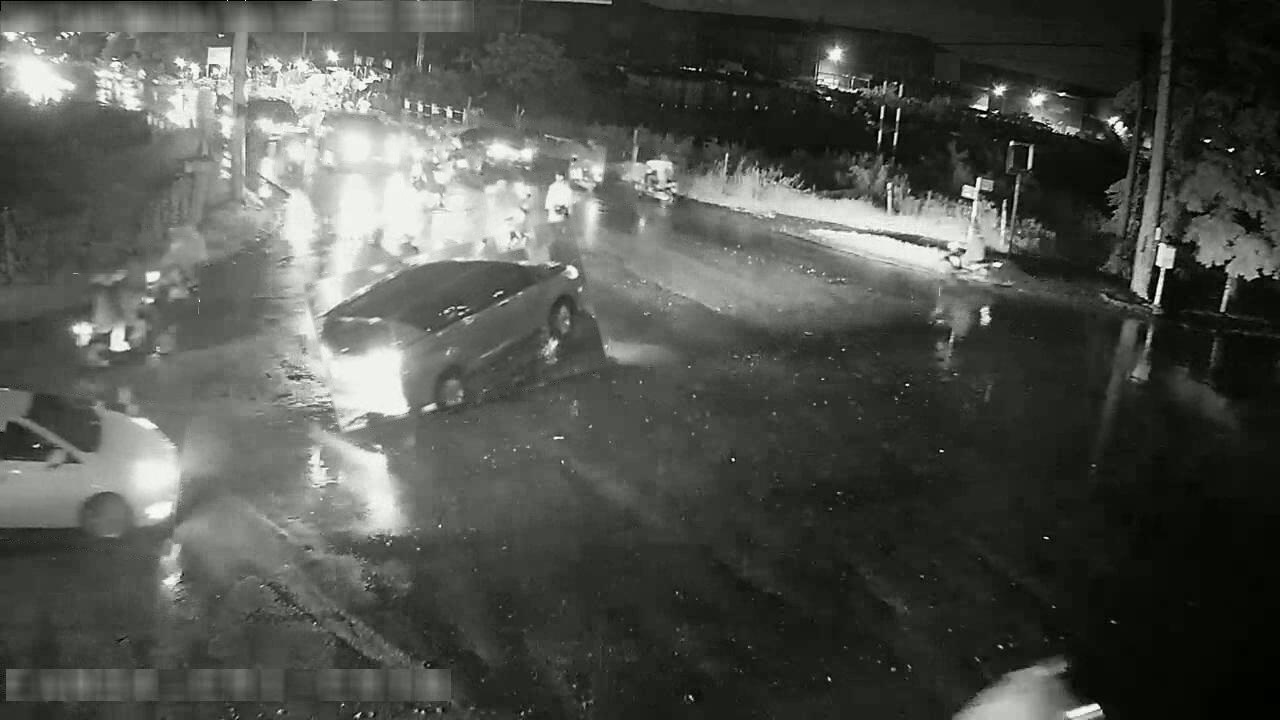Car: (308, 257, 594, 428), (0, 387, 180, 539), (320, 112, 404, 170), (478, 125, 536, 170)
Motorcyclist: (71, 272, 153, 367), (144, 227, 204, 307), (488, 179, 533, 252), (943, 229, 993, 289), (631, 153, 677, 204), (408, 147, 443, 205), (567, 139, 605, 192), (276, 128, 309, 184), (544, 173, 573, 229), (439, 131, 467, 174)
Traffic light: (1005, 141, 1034, 175)
